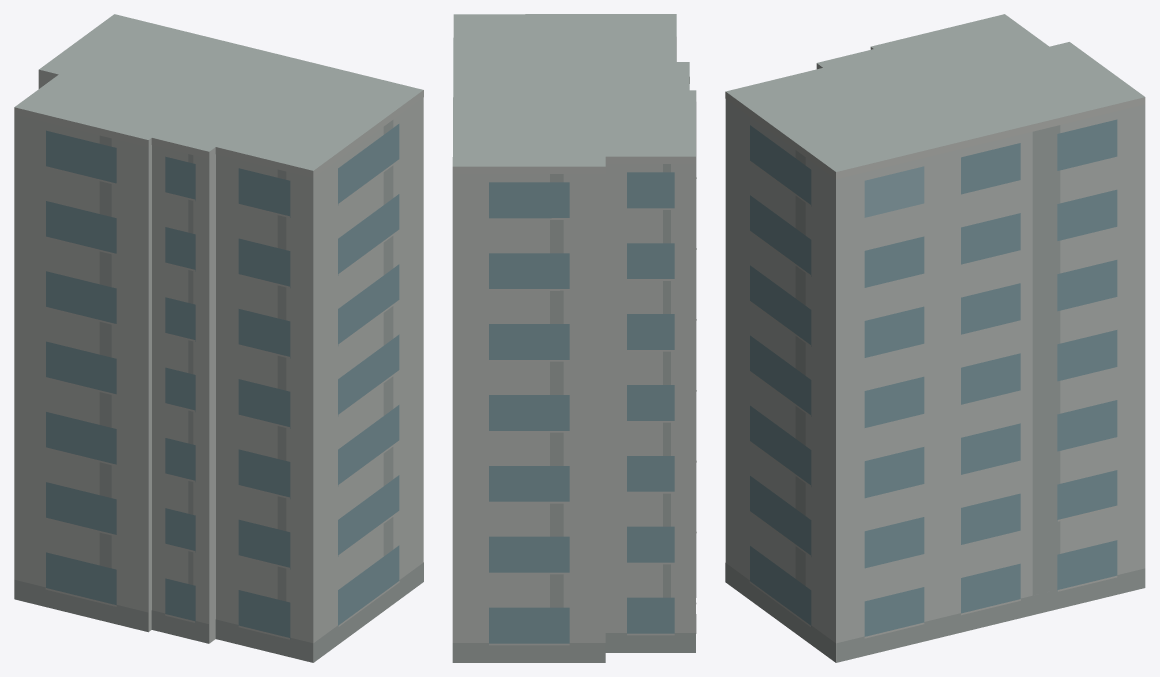
File: survey-upis-32792616.glb
The picture shows the model from 3 angles, left to right: view 1: azimuth 30°, elevation 25°; view 2: azimuth 150°, elevation 25°; view 3: azimuth 270°, elevation 25°; orthographic projection.
Visible parts, largest first — view 1: survey-upis-32792616.tmp; view 2: survey-upis-32792616.tmp; view 3: survey-upis-32792616.tmp.
Boxes of the visible parts, bbox=[...] form: survey-upis-32792616.tmp: bbox=[14, 14, 423, 662]; survey-upis-32792616.tmp: bbox=[452, 14, 696, 662]; survey-upis-32792616.tmp: bbox=[725, 14, 1145, 662].
Bounding box in the file's own units: 11.34 × 16.4 × 12.72.
